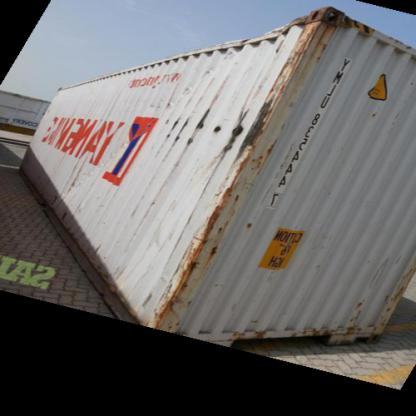Damage: (154, 194, 249, 333), (238, 12, 382, 81), (156, 100, 275, 178), (53, 143, 89, 210)
